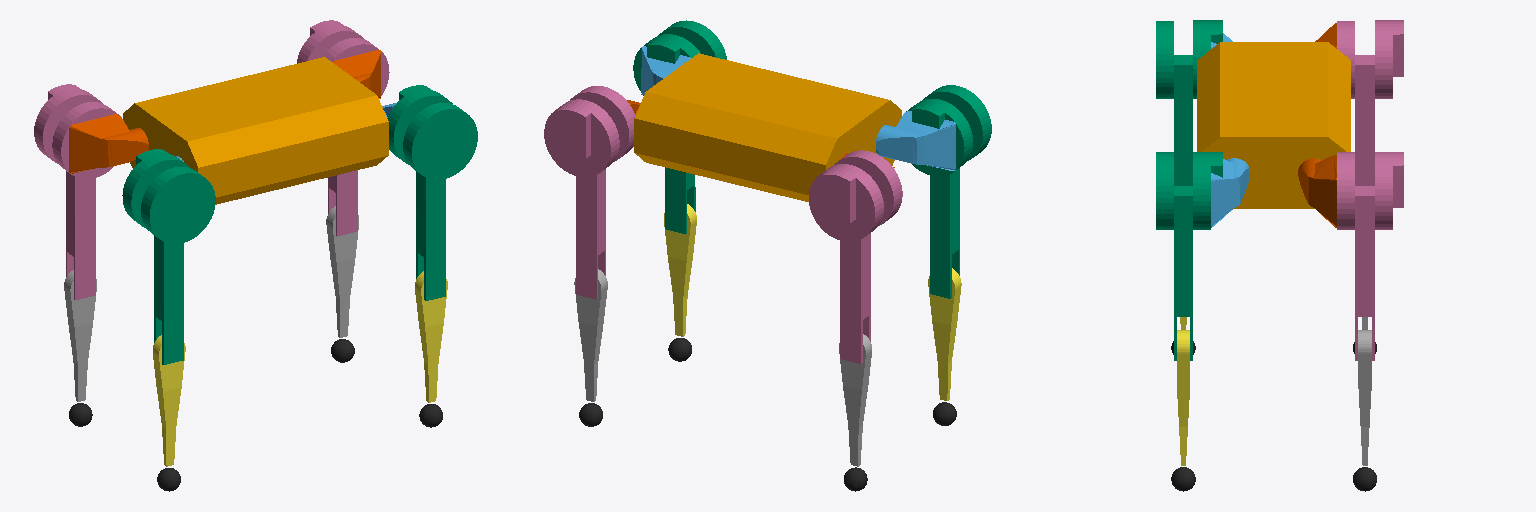
URDF robot description (mini_cheetah):
<?xml version="1.0" ?>
<robot name="mini_cheetah"
>
    <material name="darkgray">
        <color rgba=".2 .2 .2 1"/>
    </material>
    <link name="body">
        <inertial>
            <mass value="3.3"/>
            <origin xyz="0.0 0.0 0.0"/>
            <inertia ixx="0.011253" ixy="0" ixz="0" iyy="0.036203" iyz="0" izz="0.042673"/>
        </inertial>
        <visual>
            <geometry>
                <mesh filename="meshes/body.STL"/>
            </geometry>
            <origin rpy="0.0 0.0 0.0" xyz="0.0 0.0 0.0"/>
        </visual>
        <collision>
            <geometry>
                <mesh filename="meshes/body.STL"/>
            </geometry>
            <origin rpy="0 0 0" xyz="0 0 0"/>
        </collision>
    </link>

    <!--!!!!!!!!!!!! Front Right Leg !!!!!!!!!!!!!!!!!!!!!!!!!!!!!!!!!!!!-->
    <joint name="torso_to_abduct_fr_j" type="continuous">
        <axis xyz="1 0 0"/>
        <origin rpy="0 0 0" xyz="0.19 -0.049 0.0"/>
        <parent link="body"/>
        <child link="abduct_fr"/>
    </joint>
    <link name="abduct_fr">
        <inertial>
            <mass value="0.54"/>
            <origin xyz="0.0 -0.036 0."/>
            <inertia ixx="0.000381" ixy="0.000058" ixz="0.00000045" iyy="0.000560" iyz="0.00000095" izz="0.000444"/>
        </inertial>
        <visual>
            <geometry>
                <mesh filename="meshes/hip.STL"/>
            </geometry>
            <origin rpy="3.141592 0.0 1.5708" xyz="-0.055 0.0 0.0"/>
        </visual>
        <collision>
            <geometry>
                <mesh filename="meshes/hip.STL"/>
            </geometry>
            <origin rpy="3.141592 0 1.5708" xyz="-0.055 0 0"/>
        </collision>
    </link>

    <joint name="abduct_fr_to_thigh_fr_j" type="continuous">
        <axis xyz="0 -1 0"/>
        <origin rpy="0.0 0.0 0.0" xyz="0.0 -0.062 0.00"/>
        <parent link="abduct_fr"/>
        <child link="thigh_fr"/>
    </joint>
    <link name="thigh_fr">
        <inertial>
            <mass value="0.634"/>
            <origin xyz="0.0 -0.016 -0.02"/>
            <inertia ixx="0.001983" ixy="-0.000245" ixz="0.000013" iyy="0.002103" iyz="-0.0000015" izz="0.000708"/>
        </inertial>
        <visual>
            <geometry>
                <mesh filename="meshes/thigh.STL"/>
            </geometry>
            <origin rpy="0.0 -1.5708 0.0" xyz="0.0 0.0 0.0"/>
        </visual>
        <collision>
            <geometry>
                <mesh filename="meshes/thigh.STL"/>
            </geometry>
            <origin rpy="0 -1.5708 0" xyz="0 0 0"/>
        </collision>
    </link>

    <joint name="thigh_fr_to_knee_fr_j" type="continuous">
        <axis xyz="0 -1 0"/>
        <origin rpy="0.0 0 0.0" xyz="0.0 0.0 -0.209"/>
        <parent link="thigh_fr"/>
        <child link="shank_fr"/>
    </joint>
    <link name="shank_fr">
        <inertial>
            <mass value="0.064"/>
            <origin xyz="0.0 0.0 -0.209"/>
            <inertia ixx="0.000245" ixy="0" ixz="0.0" iyy="0.000248" iyz="0" izz="0.000006"/>
        </inertial>
        <visual>
            <geometry>
                <mesh filename="meshes/shank.STL"/>
            </geometry>
            <origin rpy="0.0 3.141592 0.0" xyz="0.0 0.0 0.0"/>
        </visual>
        <collision>
            <geometry>
                <mesh filename="meshes/shank.STL"/>
            </geometry>
            <origin rpy="0 3.141592 0" xyz="0 0 0"/>
        </collision>
    </link>
    <link name="toe_fr">
        <contact>
            <friction_anchor/>
            <stiffness value="30000.0"/>
            <damping value="1000.0"/>
            <spinning_friction value="0.3"/>
            <lateral_friction value="3.0"/>
        </contact>
        <visual>
            <origin rpy="0 0 0" xyz="0 0 0"/>
            <geometry>
                <sphere radius="0.015"/>
            </geometry>
            <material name="darkgray"/>
        </visual>
        <collision>
            <origin rpy="0 0 0" xyz="0 0 0"/>
            <geometry>
                <sphere radius="0.015"/>
            </geometry>
        </collision>
        <inertial>
            <mass value="0.15"/>
            <inertia ixx="0.000025" ixy="0" ixz="0" iyy="0.000025" iyz="0" izz="0.000025"/>
        </inertial>
    </link>
    <joint name="toe_fr_joint" type="fixed">
        <parent link="shank_fr"/>
        <child link="toe_fr"/>
        <origin xyz="0 0 -0.18"/>
        <dynamics damping="0.0" friction="0.0"/>
    </joint>


    <!--!!!!!!!!!!!! Front Left Leg !!!!!!!!!!!!!!!!!!!!!!!!!!!!!!!!!!!!-->
    <joint name="torso_to_abduct_fl_j" type="continuous">
        <axis xyz="1 0 0"/>
        <origin rpy="0 0 0 " xyz="0.19 0.049 0.0"/>
        <parent link="body"/>
        <child link="abduct_fl"/>
    </joint>
    <link name="abduct_fl">
        <inertial>
            <mass value="0.54"/>
            <origin xyz="0.0 0.036 0."/>
            <inertia ixx="0.000381" ixy="0.000058" ixz="0.00000045" iyy="0.000560" iyz="0.00000095" izz="0.000444"/>
        </inertial>
        <visual>
            <geometry>
                <mesh filename="meshes/hip.STL"/>
            </geometry>
            <origin rpy="0. 0. -1.5708" xyz="-0.055 0.0 0.0"/>
        </visual>
        <collision>
            <geometry>
                <mesh filename="meshes/hip.STL"/>
            </geometry>
            <origin rpy="0 0 -1.5708" xyz="-0.055 0 0"/>
        </collision>
    </link>

    <joint name="abduct_fl_to_thigh_fl_j" type="continuous">
        <axis xyz="0 -1 0"/>
        <origin rpy="0.0 0.0 0.0" xyz="0.0 0.062 0.00"/>
        <parent link="abduct_fl"/>
        <child link="thigh_fl"/>
    </joint>
    <link name="thigh_fl">
        <inertial>
            <mass value="0.634"/>
            <origin xyz="0.0 0.016 -0.02"/>
            <inertia ixx="0.001983" ixy="0.000245" ixz="0.000013" iyy="0.002103" iyz="0.0000015" izz="0.000708"/>
        </inertial>
        <visual>
            <geometry>
                <mesh filename="meshes/thigh.STL"/>
            </geometry>
            <origin rpy="0.0 -1.5708 0.0" xyz="0.0 0.0 0.0"/>
        </visual>
        <collision>
            <geometry>
                <mesh filename="meshes/thigh.STL"/>
            </geometry>
            <origin rpy="0 -1.5708 0" xyz="0 0 0"/>
        </collision>
    </link>

    <joint name="thigh_fl_to_knee_fl_j" type="continuous">
        <axis xyz="0 -1 0"/>
        <origin rpy="0.0 0 0.0" xyz="0.0 0.0 -0.209"/>
        <parent link="thigh_fl"/>
        <child link="shank_fl"/>
    </joint>
    <link name="shank_fl">
        <inertial>
            <mass value="0.064"/>
            <origin xyz="0.0 0.0 -0.209"/>
            <inertia ixx="0.000245" ixy="0" ixz="0.0" iyy="0.000248" iyz="0" izz="0.000006"/>
        </inertial>
        <visual>
            <geometry>
                <mesh filename="meshes/shank.STL"/>
            </geometry>
            <origin rpy="0.0 3.141592 0.0" xyz="0.0 0.0 0.0"/>
        </visual>
        <collision>
            <geometry>
                <mesh filename="meshes/shank.STL"/>
            </geometry>
            <origin rpy="0 3.141592 0" xyz="0 0 0"/>
        </collision>
    </link>
    <link name="toe_fl">
        <contact>
            <friction_anchor/>
            <stiffness value="30000.0"/>
            <damping value="1000.0"/>
            <spinning_friction value="0.3"/>
            <lateral_friction value="3.0"/>
        </contact>
        <visual>
            <origin rpy="0 0 0" xyz="0 0 0"/>
            <geometry>
                <sphere radius="0.015"/>
            </geometry>
            <material name="darkgray"/>
        </visual>
        <collision>
            <origin rpy="0 0 0" xyz="0 0 0"/>
            <geometry>
                <sphere radius="0.015"/>
            </geometry>
        </collision>
        <inertial>
            <mass value="0.15"/>
            <inertia ixx="0.000025" ixy="0" ixz="0" iyy="0.000025" iyz="0" izz="0.000025"/>
        </inertial>
    </link>
    <joint name="toe_fl_joint" type="fixed">
        <parent link="shank_fl"/>
        <child link="toe_fl"/>
        <origin xyz="0 0 -0.18"/>
        <dynamics damping="0.0" friction="0.0"/>
    </joint>


    <!--!!!!!!!!!!!! Hind Right Leg !!!!!!!!!!!!!!!!!!!!!!!!!!!!!!!!!!!!-->
    <joint name="torso_to_abduct_hr_j" type="continuous">
        <axis xyz="1 0 0"/>
        <origin rpy="0 0 0" xyz="-0.19 -0.049 0.0"/>
        <parent link="body"/>
        <child link="abduct_hr"/>
    </joint>
    <link name="abduct_hr">
        <inertial>
            <mass value="0.54"/>
            <origin xyz="0.0 -0.036 0."/>
            <inertia ixx="0.000381" ixy="0.000058" ixz="0.00000045" iyy="0.000560" iyz="0.00000095" izz="0.000444"/>
        </inertial>
        <visual>
            <geometry>
                <mesh filename="meshes/hip.STL"/>
            </geometry>
            <origin rpy="0.0 0.0 1.5708" xyz="0.055 0.0 0.0"/>
        </visual>
        <collision>
            <geometry>
                <mesh filename="meshes/hip.STL"/>
            </geometry>
            <origin rpy="0 0 1.5708" xyz="0.055 0 0"/>
        </collision>
    </link>

    <joint name="abduct_hr_to_thigh_hr_j" type="continuous">
        <axis xyz="0 -1 0"/>
        <origin rpy="0.0 0.0 0.0" xyz="0.0 -0.062 0.00"/>
        <parent link="abduct_hr"/>
        <child link="thigh_hr"/>
    </joint>
    <link name="thigh_hr">
        <inertial>
            <mass value="0.634"/>
            <origin xyz="0.0 -0.016 -0.02"/>
            <inertia ixx="0.001983" ixy="-0.000245" ixz="0.000013" iyy="0.002103" iyz="-0.0000015" izz="0.000708"/>
        </inertial>
        <visual>
            <geometry>
                <mesh filename="meshes/thigh.STL"/>
            </geometry>
            <origin rpy="0.0 -1.5708 0.0" xyz="0.0 0.0 0.0"/>
        </visual>
        <collision>
            <geometry>
                <mesh filename="meshes/thigh.STL"/>
            </geometry>
            <origin rpy="0 -1.5708 0" xyz="0 0 0"/>
        </collision>
    </link>

    <joint name="thigh_hr_to_knee_hr_j" type="continuous">
        <axis xyz="0 -1 0"/>
        <origin rpy="0.0 0 0.0" xyz="0.0 0.0 -0.209"/>
        <parent link="thigh_hr"/>
        <child link="shank_hr"/>
    </joint>
    <link name="shank_hr">
        <inertial>
            <mass value="0.064"/>
            <origin xyz="0.0 0.0 -0.209"/>
            <inertia ixx="0.000245" ixy="0" ixz="0.0" iyy="0.000248" iyz="0" izz="0.000006"/>
        </inertial>
        <visual>
            <geometry>
                <mesh filename="meshes/shank.STL"/>
            </geometry>
            <origin rpy="0.0 3.141592 0.0" xyz="0.0 0.0 0.0"/>
        </visual>
        <collision>
            <geometry>
                <mesh filename="meshes/shank.STL"/>
            </geometry>
            <origin rpy="0 3.141592 0" xyz="0 0 0"/>
        </collision>
    </link>
    <link name="toe_hr">
        <contact>
            <friction_anchor/>
            <stiffness value="30000.0"/>
            <damping value="1000.0"/>
            <spinning_friction value="0.3"/>
            <lateral_friction value="3.0"/>
        </contact>
        <visual>
            <origin rpy="0 0 0" xyz="0 0 0"/>
            <geometry>
                <sphere radius="0.015"/>
            </geometry>
            <material name="darkgray"/>
        </visual>
        <collision>
            <origin rpy="0 0 0" xyz="0 0 0"/>
            <geometry>
                <sphere radius="0.015"/>
            </geometry>
        </collision>
        <inertial>
            <mass value="0.15"/>
            <inertia ixx="0.000025" ixy="0" ixz="0" iyy="0.000025" iyz="0" izz="0.000025"/>
        </inertial>
    </link>
    <joint name="toe_hr_joint" type="fixed">
        <parent link="shank_hr"/>
        <child link="toe_hr"/>
        <origin xyz="0 0 -0.18"/>
        <dynamics damping="0.0" friction="0.0"/>
    </joint>


    <!--!!!!!!!!!!!! Hind Left Leg !!!!!!!!!!!!!!!!!!!!!!!!!!!!!!!!!!!!-->
    <joint name="torso_to_abduct_hl_j" type="continuous">
        <axis xyz="1 0 0"/>
        <origin rpy="0 0 0" xyz="-0.19 0.049 0.0"/>
        <parent link="body"/>
        <child link="abduct_hl"/>
    </joint>
    <link name="abduct_hl">
        <inertial>
            <mass value="0.54"/>
            <origin xyz="0.0 0.036 0."/>
            <inertia ixx="0.000381" ixy="0.000058" ixz="0.00000045" iyy="0.000560" iyz="0.00000095" izz="0.000444"/>
        </inertial>
        <visual>
            <geometry>
                <mesh filename="meshes/hip.STL"/>
            </geometry>
            <origin rpy="3.141592 0.0 -1.5708" xyz="0.055 0.0 0.0"/>
        </visual>
        <collision>
            <geometry>
                <mesh filename="meshes/hip.STL"/>
            </geometry>
            <origin rpy="3.141592 0 -1.5708" xyz="0.055 0 0"/>
        </collision>
    </link>

    <joint name="abduct_hl_to_thigh_hl_j" type="continuous">
        <axis xyz="0 -1 0"/>
        <origin rpy="0.0 0.0 0.0" xyz="0.0 0.062 0.00"/>
        <parent link="abduct_hl"/>
        <child link="thigh_hl"/>
    </joint>
    <link name="thigh_hl">
        <inertial>
            <mass value="0.634"/>
            <origin xyz="0.0 0.016 -0.02"/>
            <inertia ixx="0.001983" ixy="0.000245" ixz="0.000013" iyy="0.002103" iyz="0.0000015" izz="0.000708"/>
        </inertial>
        <visual>
            <geometry>
                <mesh filename="meshes/thigh.STL"/>
            </geometry>
            <origin rpy="0.0 -1.5708 0.0" xyz="0.0 0.0 0.0"/>
        </visual>
        <collision>
            <geometry>
                <mesh filename="meshes/thigh.STL"/>
            </geometry>
            <origin rpy="0 -1.5708 0" xyz="0 0 0"/>
        </collision>
    </link>

    <joint name="thigh_hl_to_knee_hl_j" type="continuous">
        <axis xyz="0 -1 0"/>
        <origin rpy="0.0 0 0.0" xyz="0.0 0.0 -0.209"/>
        <parent link="thigh_hl"/>
        <child link="shank_hl"/>
    </joint>
    <link name="shank_hl">
        <inertial>
            <mass value="0.064"/>
            <origin xyz="0.0 0.0 -0.209"/>
            <inertia ixx="0.000245" ixy="0" ixz="0.0" iyy="0.000248" iyz="0" izz="0.000006"/>
        </inertial>
        <visual>
            <geometry>
                <mesh filename="meshes/shank.STL"/>
            </geometry>
            <origin rpy="0.0 3.141592 0.0" xyz="0.0 0.0 0.0"/>
        </visual>
        <collision>
            <geometry>
                <mesh filename="meshes/shank.STL"/>
            </geometry>
            <origin rpy="0 3.141592 0" xyz="0 0 0"/>
        </collision>
    </link>
    <link name="toe_hl">
        <contact>
            <friction_anchor/>
            <stiffness value="30000.0"/>
            <damping value="1000.0"/>
            <spinning_friction value="0.3"/>
            <lateral_friction value="3.0"/>
        </contact>
        <visual>
            <origin rpy="0 0 0" xyz="0 0 0"/>
            <geometry>
                <sphere radius="0.015"/>
            </geometry>
            <material name="darkgray"/>
        </visual>
        <collision>
            <origin rpy="0 0 0" xyz="0 0 0"/>
            <geometry>
                <sphere radius="0.015"/>
            </geometry>
        </collision>
        <inertial>
            <mass value="0.15"/>
            <inertia ixx="0.000025" ixy="0" ixz="0" iyy="0.000025" iyz="0" izz="0.000025"/>
        </inertial>
    </link>
    <joint name="toe_hl_joint" type="fixed">
        <parent link="shank_hl"/>
        <child link="toe_hl"/>
        <origin xyz="0 0 -0.18"/>
        <dynamics damping="0.0" friction="0.0"/>
    </joint>
</robot>

--- Render facts (derived) ---
The picture shows the robot from 3 angles, left to right: view 1: azimuth 30°, elevation 25°; view 2: azimuth 150°, elevation 25°; view 3: azimuth 270°, elevation 25°; orthographic projection.
Robot: mini_cheetah — 17 links, 16 joints (12 continuous, 4 fixed); root link body; default pose: all joints at 0.
Links seen in each view (by area): view 1: body, thigh_hr, thigh_fr, thigh_hl, thigh_fl, abduct_hl, shank_hl, shank_fl, shank_fr, shank_hr, abduct_fl; view 2: body, thigh_hl, thigh_fl, thigh_hr, thigh_fr, abduct_hr, shank_fr, shank_fl, shank_hr, shank_hl, abduct_fr; view 3: body, thigh_fl, thigh_fr, thigh_hl, thigh_hr, abduct_fl, abduct_fr, shank_fl, shank_fr.
Boxes of the visible links, x1,y1,x2,y2 form: body: [123, 57, 388, 204]; thigh_hr: [122, 149, 215, 364]; thigh_fr: [387, 85, 477, 300]; thigh_hl: [34, 84, 118, 300]; thigh_fl: [297, 20, 389, 236]; abduct_hl: [69, 114, 148, 173]; shank_hl: [64, 270, 96, 401]; shank_fl: [326, 206, 358, 337]; shank_fr: [415, 271, 447, 402]; shank_hr: [153, 335, 185, 466]; abduct_fl: [333, 50, 381, 98]; body: [634, 53, 901, 201]; thigh_hl: [809, 150, 902, 363]; thigh_fl: [544, 86, 635, 299]; thigh_hr: [906, 85, 991, 298]; thigh_fr: [633, 20, 726, 233]; abduct_hr: [876, 111, 955, 170]; shank_fr: [664, 204, 696, 336]; shank_fl: [574, 269, 607, 401]; shank_hr: [928, 268, 961, 400]; shank_hl: [839, 334, 871, 466]; abduct_fr: [641, 46, 690, 94]; body: [1197, 42, 1350, 208]; thigh_fl: [1337, 152, 1403, 360]; thigh_fr: [1156, 152, 1222, 360]; thigh_hl: [1337, 20, 1403, 185]; thigh_hr: [1156, 20, 1222, 185]; abduct_fl: [1298, 155, 1336, 227]; abduct_fr: [1211, 158, 1249, 227]; shank_fl: [1358, 330, 1371, 465]; shank_fr: [1177, 330, 1189, 465].
Bounding box of the posed robot: 0.4759 × 0.304 × 0.4526 m (x, y, z).
Meshes: 4 distinct files referenced, 13 mesh visuals loaded (4 binary STL).